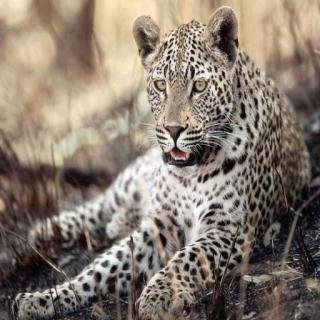Leopard: (71, 0, 304, 320)
